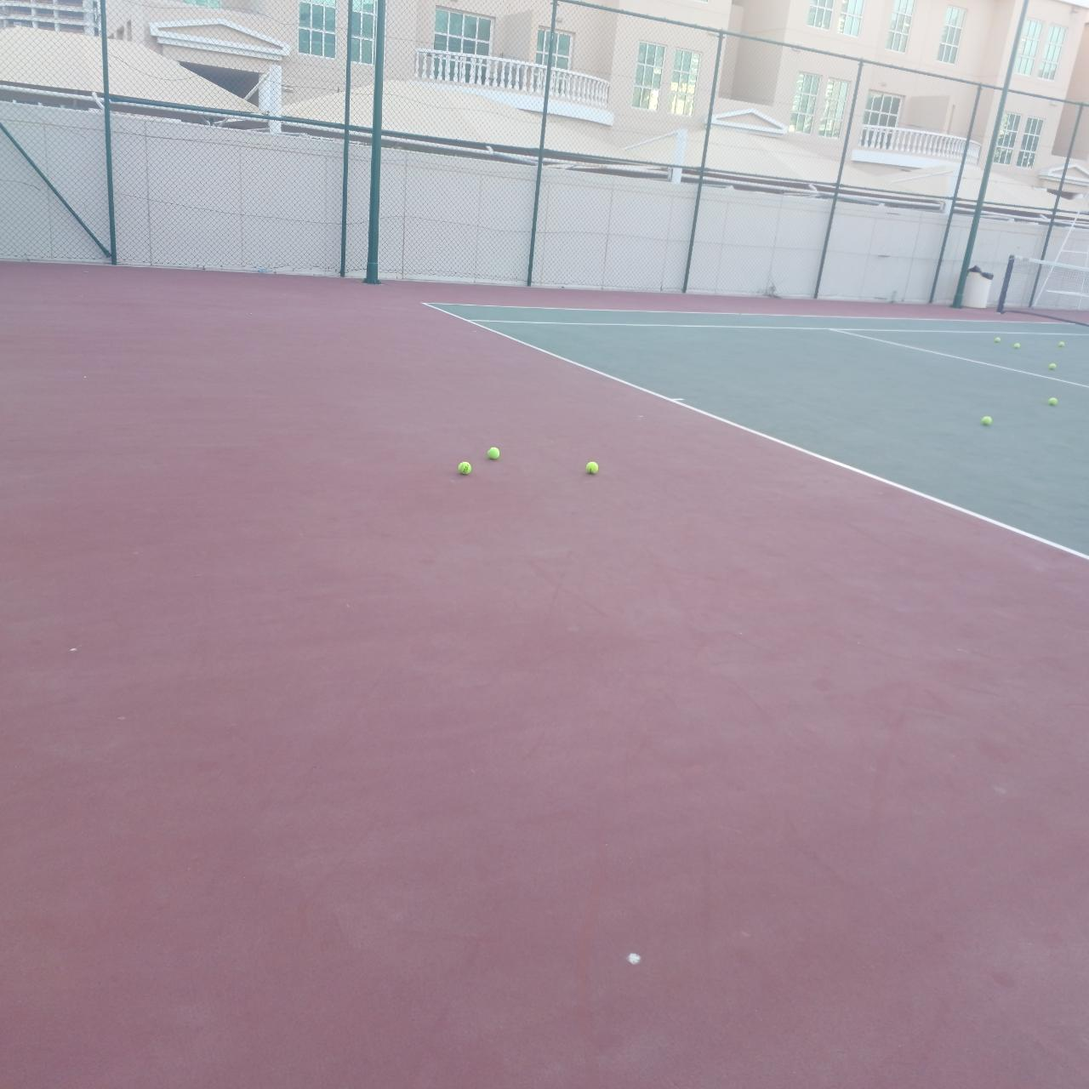tennis-ball: (457, 459, 472, 475), (584, 459, 598, 475), (485, 445, 499, 460), (981, 415, 992, 425), (1047, 397, 1058, 406), (1048, 363, 1056, 370), (1013, 343, 1020, 349), (994, 337, 1001, 343), (1059, 342, 1065, 347)
